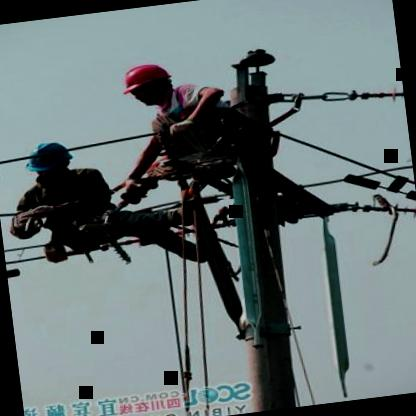helmet: (117, 54, 181, 112), (21, 136, 76, 180)
